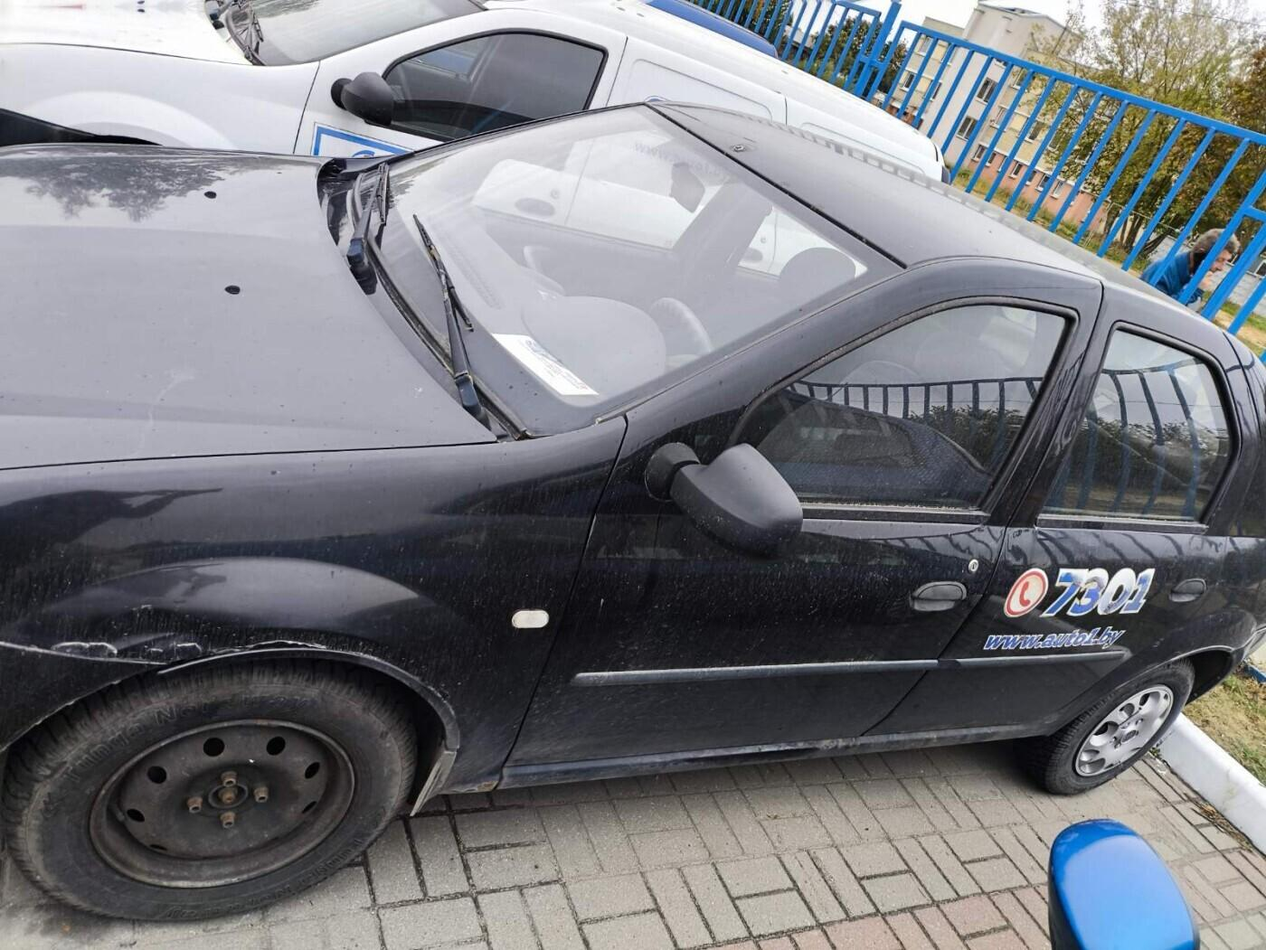Logan_2008-2015: (0, 88, 1266, 928)
